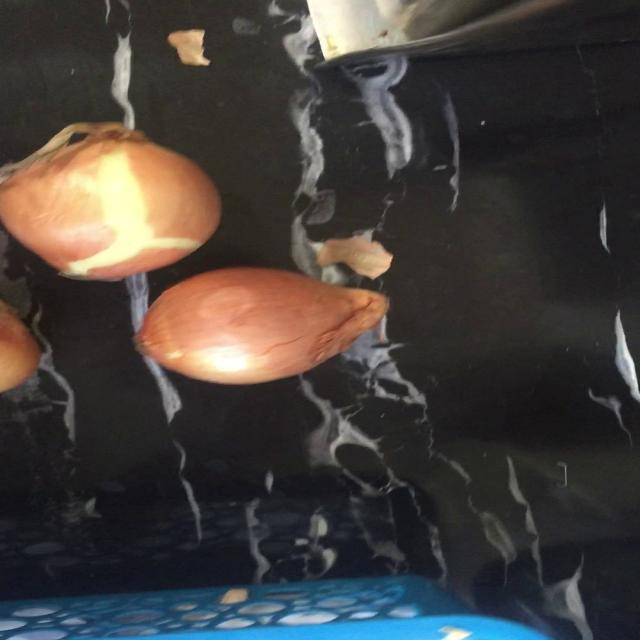Onion: (0, 122, 220, 280), (134, 267, 388, 385), (0, 302, 39, 392)
